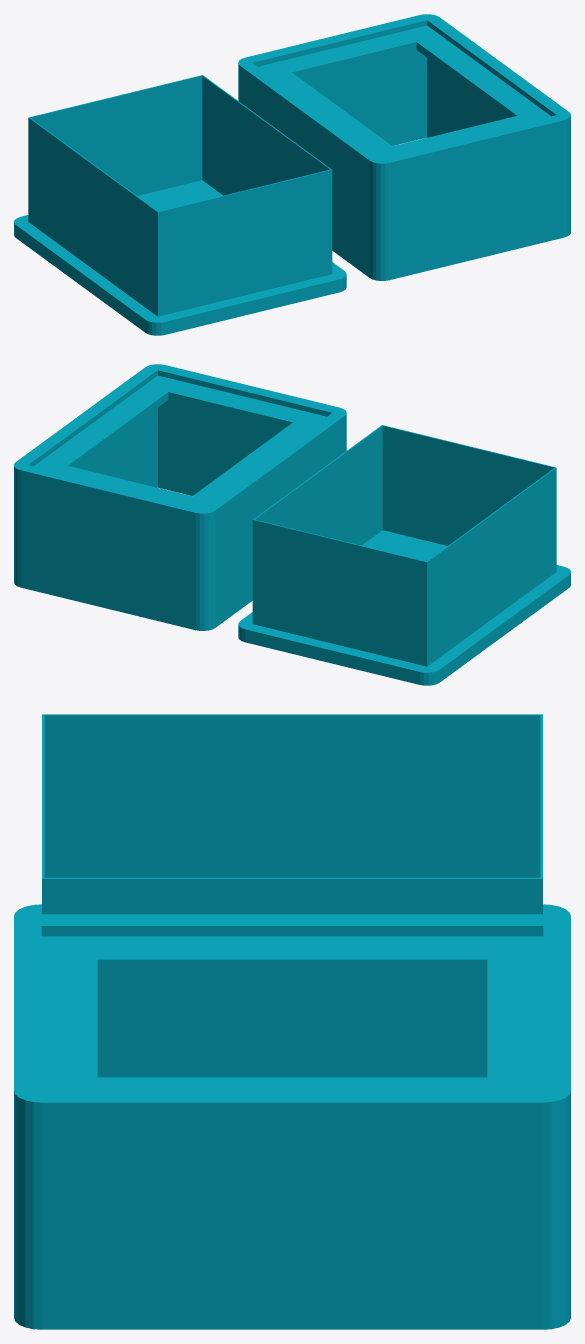
The model's file is ESP32-Solar-Pannel.glb.
The picture shows the model from 3 angles, top to bottom: view 1: azimuth 30°, elevation 25°; view 2: azimuth 150°, elevation 25°; view 3: azimuth 270°, elevation 25°; orthographic projection. The views are drawn at different scales.
Visible parts, largest first — view 1: Mesh_Mesh_head_geo.001_lambert2SG.001; view 2: Mesh_Mesh_head_geo.001_lambert2SG.001; view 3: Mesh_Mesh_head_geo.001_lambert2SG.001.
Boxes of the visible parts, x1=… form: Mesh_Mesh_head_geo.001_lambert2SG.001: x1=14, y1=14, x2=570, y2=335; Mesh_Mesh_head_geo.001_lambert2SG.001: x1=14, y1=364, x2=570, y2=685; Mesh_Mesh_head_geo.001_lambert2SG.001: x1=14, y1=714, x2=570, y2=1329.
Bounding box in the file's own units: 170 × 45 × 100.
